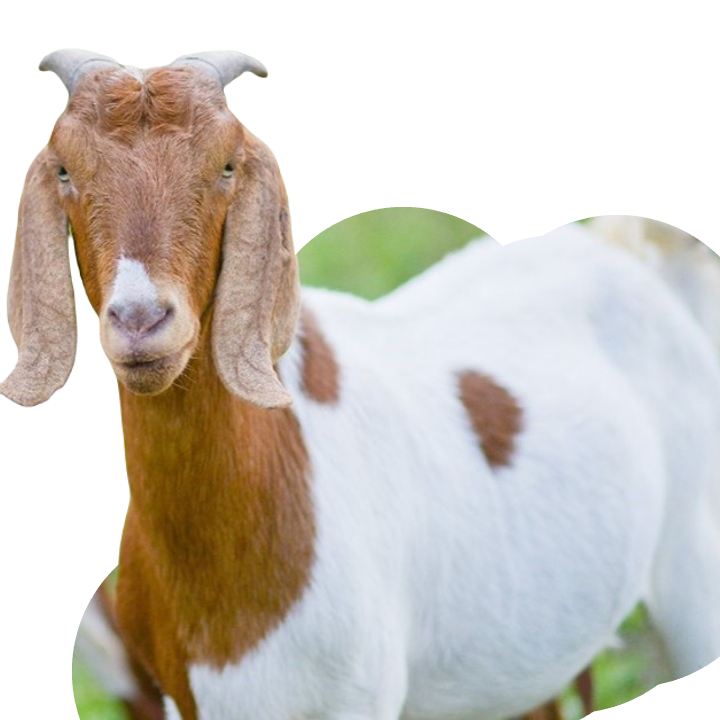Goat: (3, 49, 719, 719)
